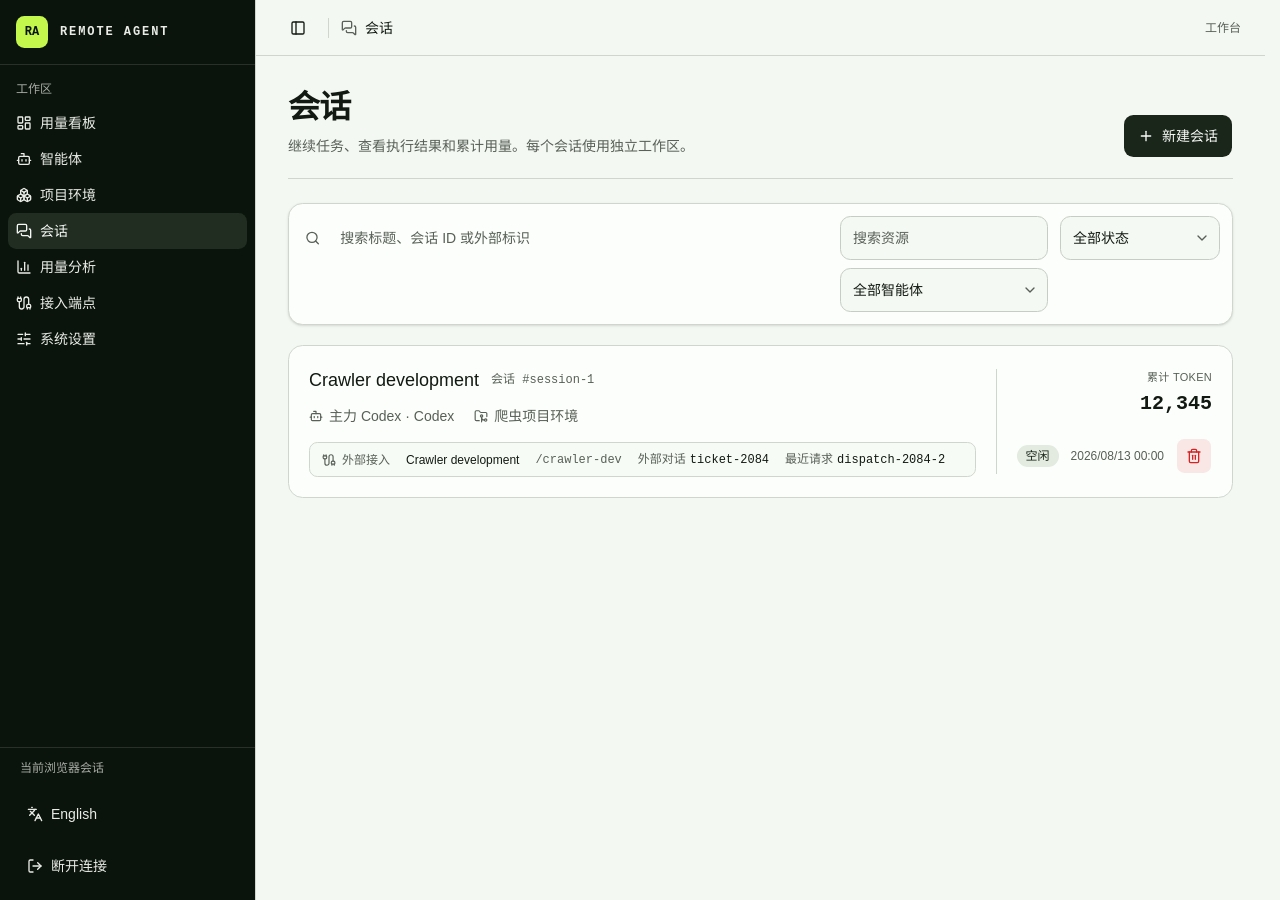
列表展示会话来源、项目环境和累计 Token，并支持按外部标识搜索
Expected: the text "ticket-2084" is shown, [690,453,769,467]
Expected: the text "/crawler-dev" is shown, [535,452,622,468]
Type "ticket-2084" into the search field named "搜索会话" at (576, 238), box [328,216,824,260]
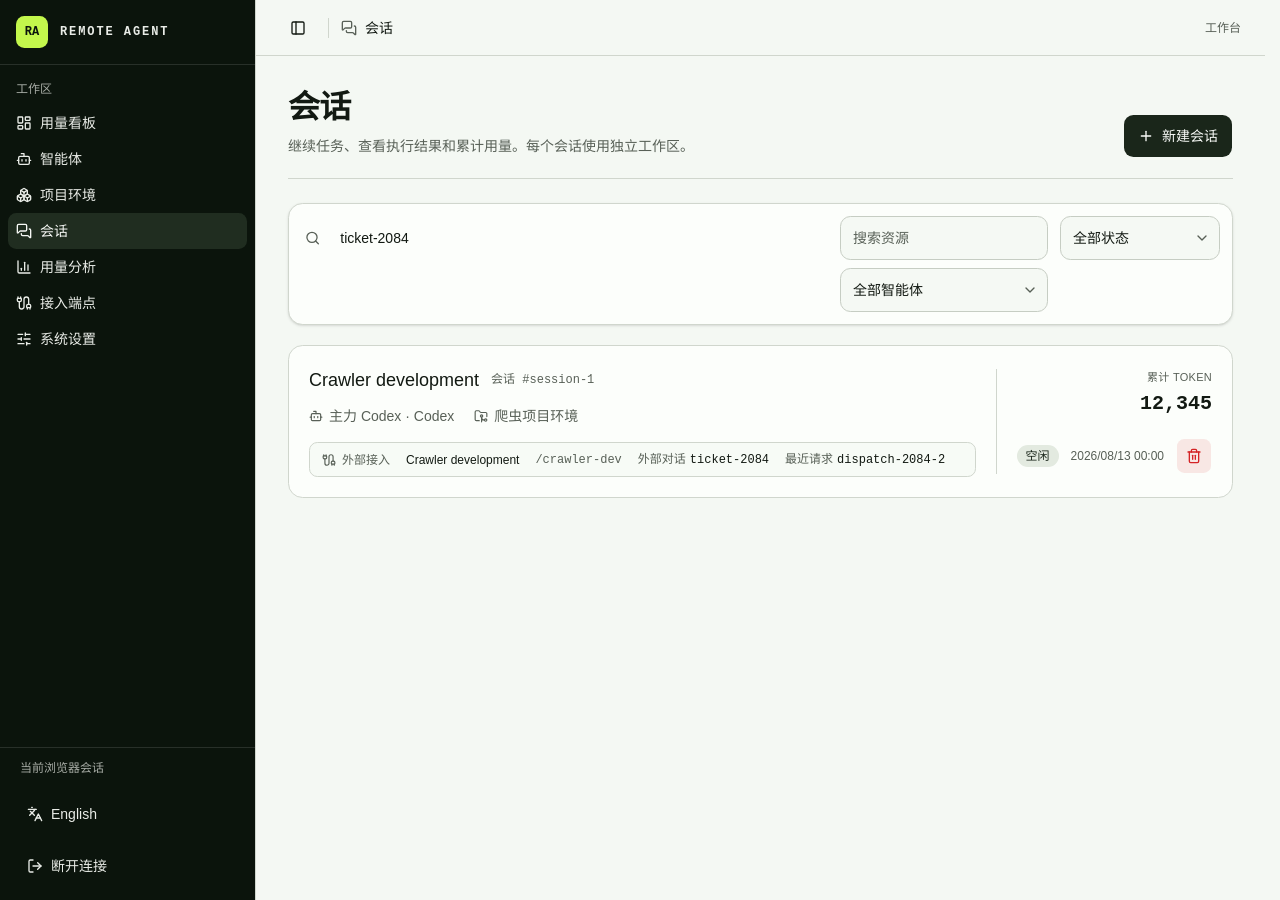
Expected: the link "Crawler development" next to "会话 #session-1" is shown, [309,370,479,390]
Replace the text in the search field named "搜索会话" with "ticket-9999" at (576, 238), box [328,216,824,260]
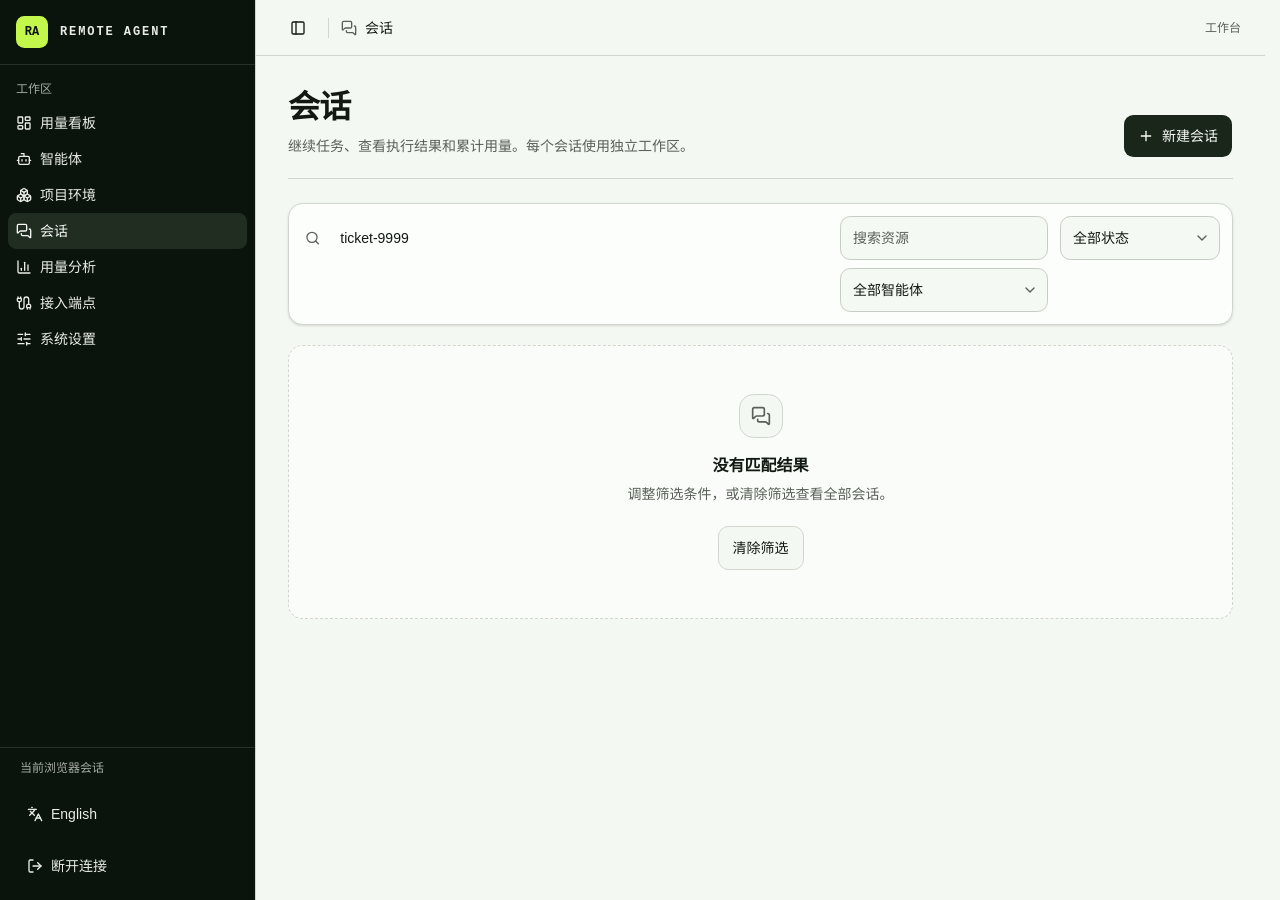
Result: the link "Crawler development" is gone
